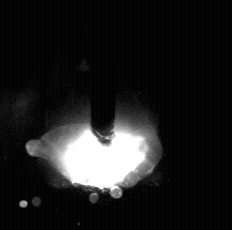arame: (91, 0, 116, 146)
poca: (25, 0, 162, 230)
